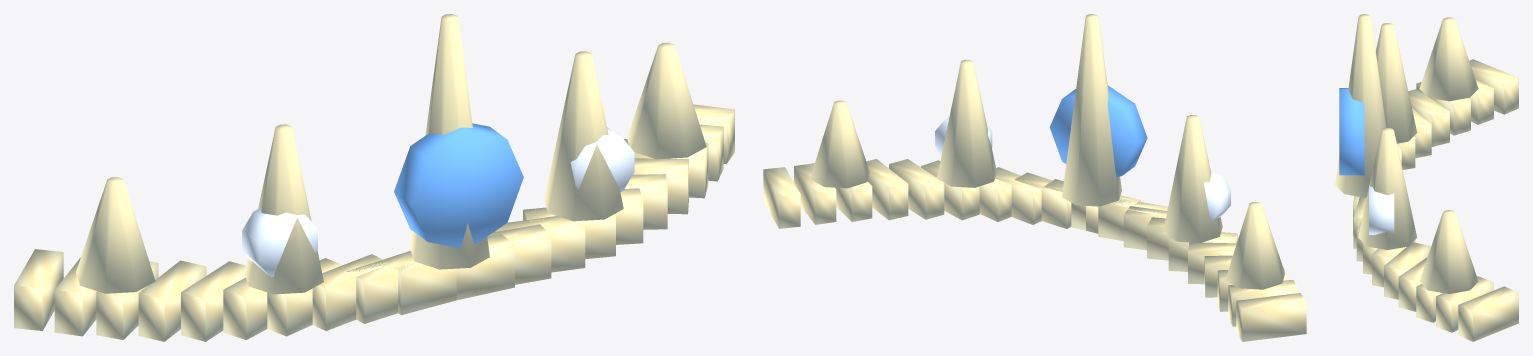
The model's file is rofan-tiara.glb.
3 views of the same model, side by side, from view 1: azimuth 30°, elevation 25°; view 2: azimuth 150°, elevation 25°; view 3: azimuth 270°, elevation 25° (orthographic). The views are drawn at different scales.
Parts seen in each view (by area): view 1: TS_HeadProp_rofan-tiara; view 2: TS_HeadProp_rofan-tiara; view 3: TS_HeadProp_rofan-tiara.
Part boxes in pixels (x1,y1,x2,y2): TS_HeadProp_rofan-tiara: (14, 14, 734, 341); TS_HeadProp_rofan-tiara: (763, 14, 1306, 341); TS_HeadProp_rofan-tiara: (1335, 14, 1518, 341).
Bounding box in the file's own units: 0.1412 × 0.052 × 0.0435.
Materials: 1 (1 with a texture image).
